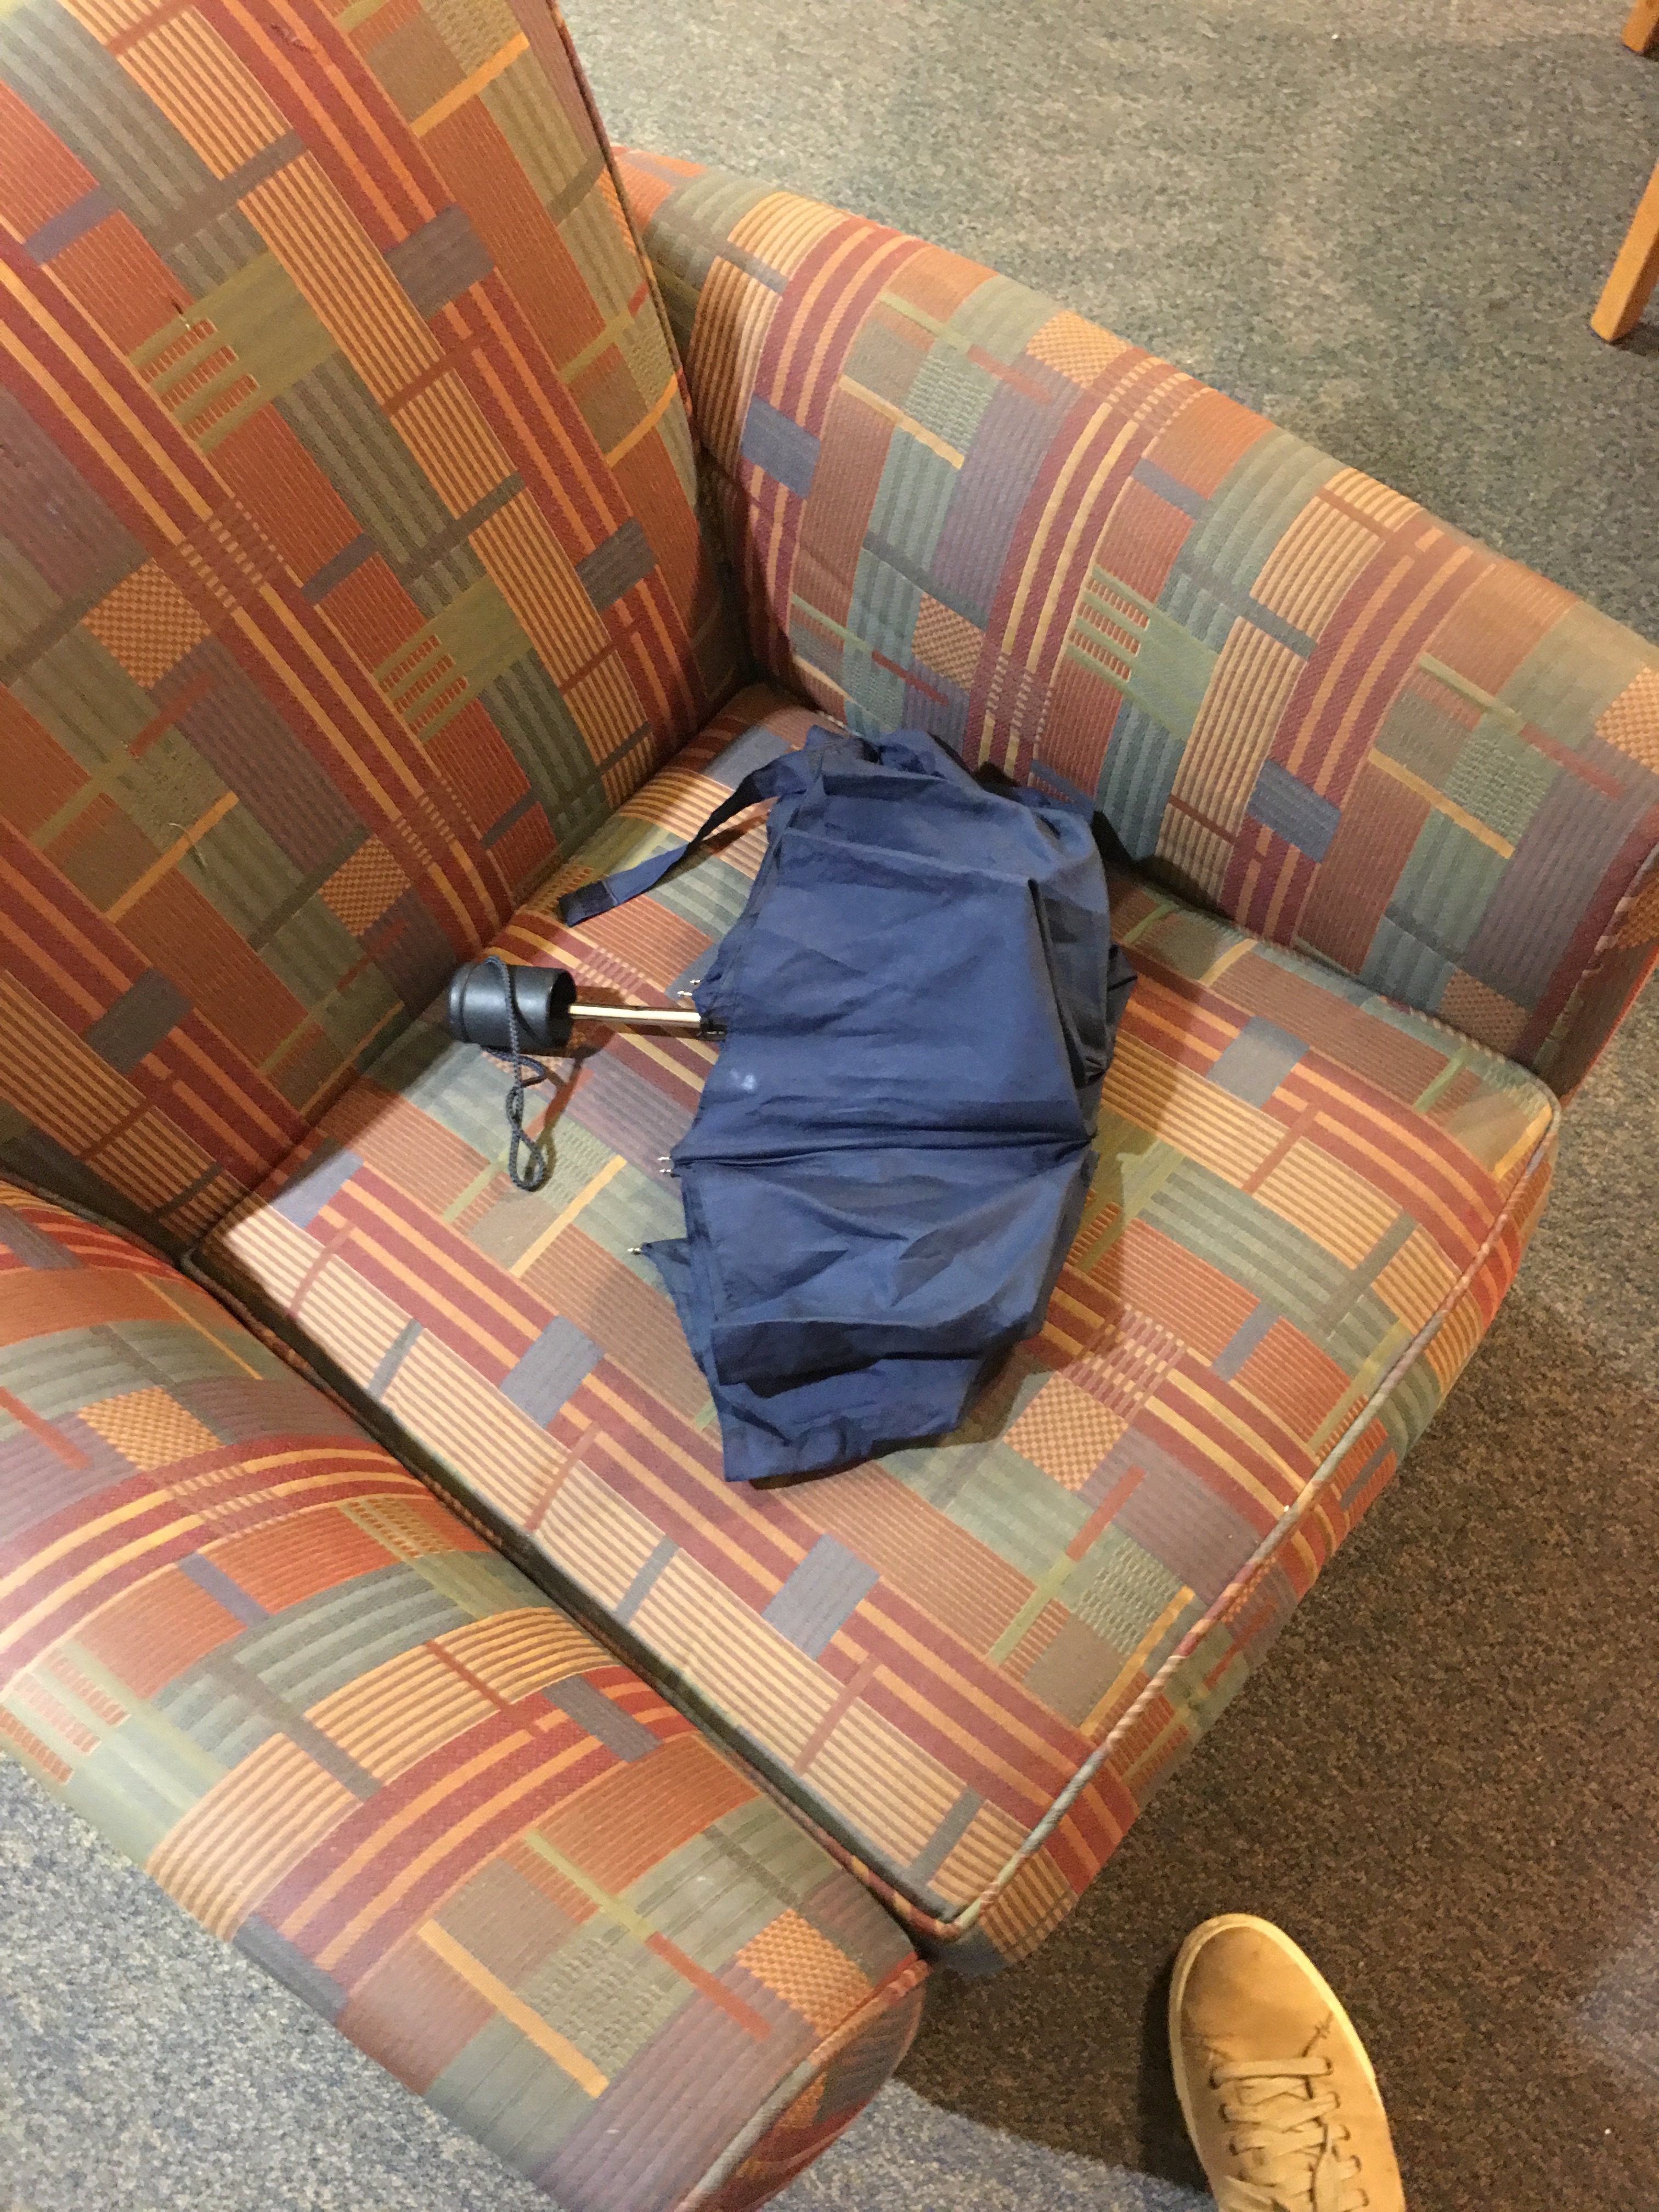Umbrella: (429, 704, 1164, 1493)
